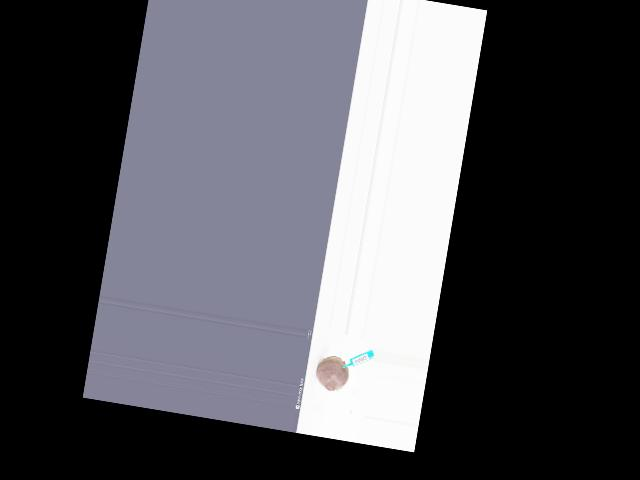beet: (313, 353, 351, 393)
